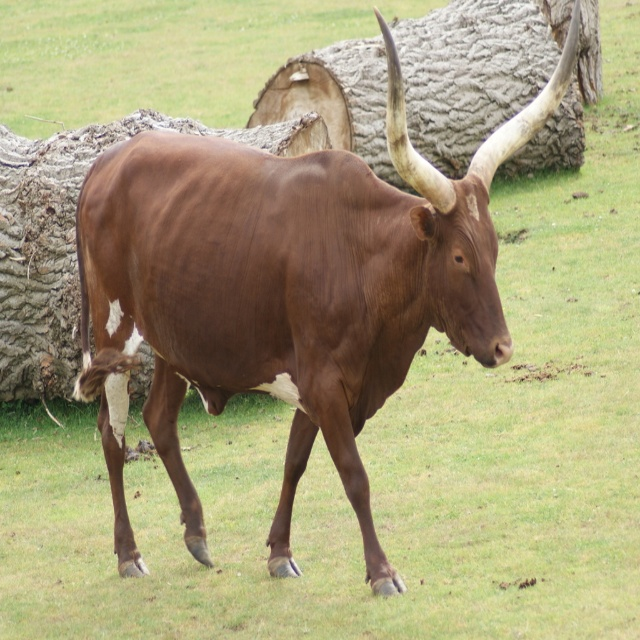Cattle: (76, 0, 583, 599)
